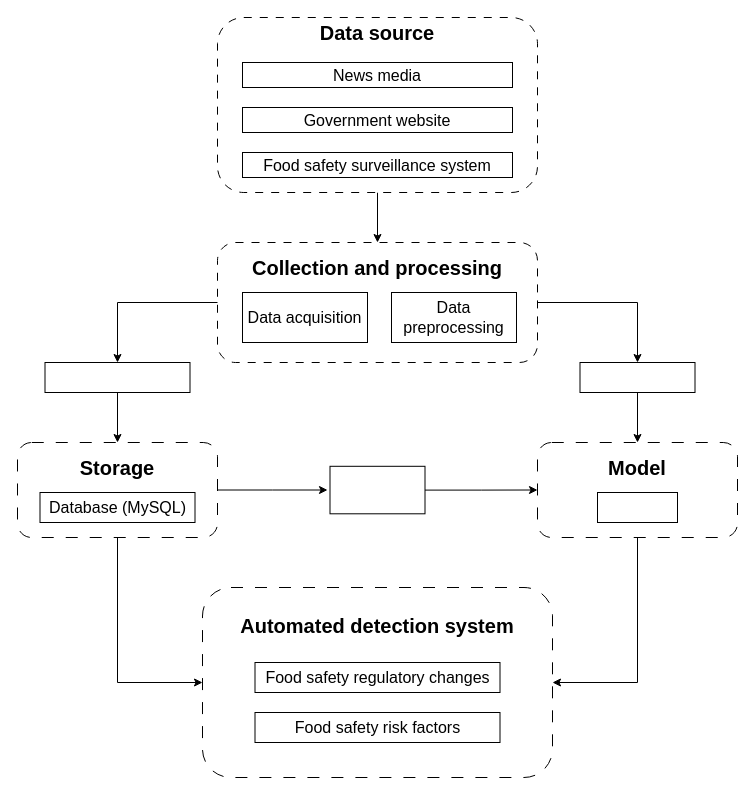
The diagram is 755 pixels wide and 795 high, and some of its shapes have lost their labels. Here are the shapes that lost their labels. From the top down, the centre of each, then its label:
the point at 117,377: Expert annotations
the point at 637,377: Data update
the point at 377,489: Deep Learning
the point at 637,507: BERT
